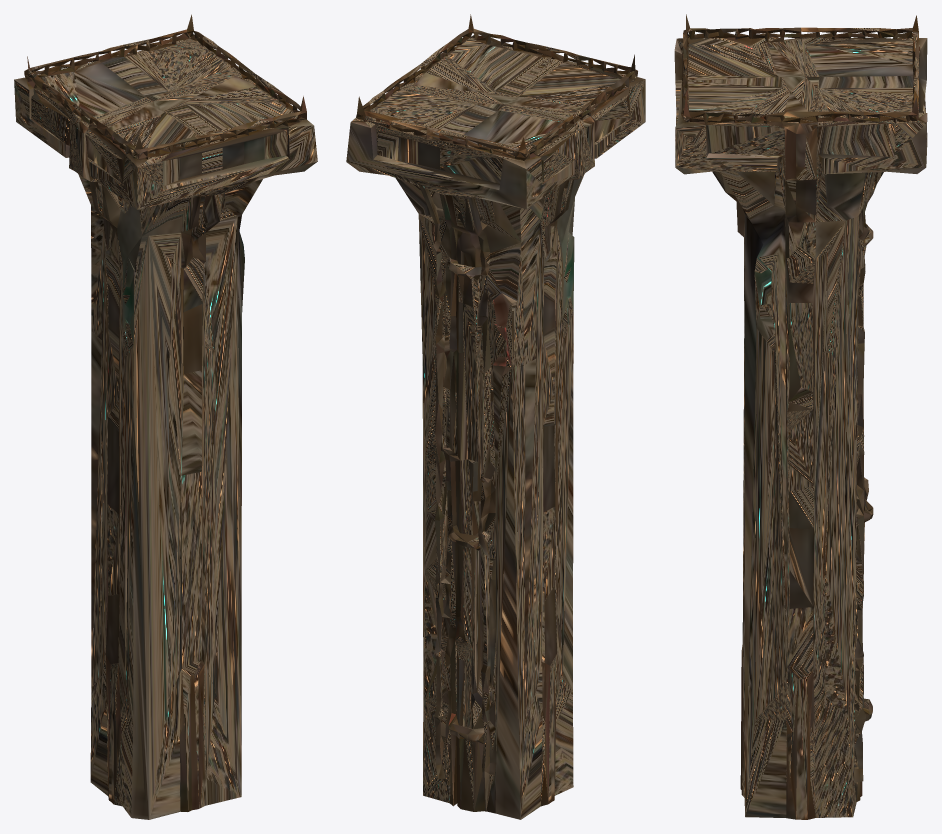
File: s05_far.glb
The picture shows the model from 3 angles, left to right: view 1: azimuth 30°, elevation 25°; view 2: azimuth 150°, elevation 25°; view 3: azimuth 270°, elevation 25°; orthographic projection. The views are drawn at different scales.
Parts seen in each view (by area): view 1: s05_far; view 2: s05_far; view 3: s05_far.
Part boxes in pixels (x1=…): s05_far: x1=14, y1=14, x2=317, y2=819; s05_far: x1=346, y1=14, x2=645, y2=819; s05_far: x1=674, y1=14, x2=927, y2=819.
Size of the model in its own units: 7.52 by 28 by 8.71.
1 material, 1 textured.
